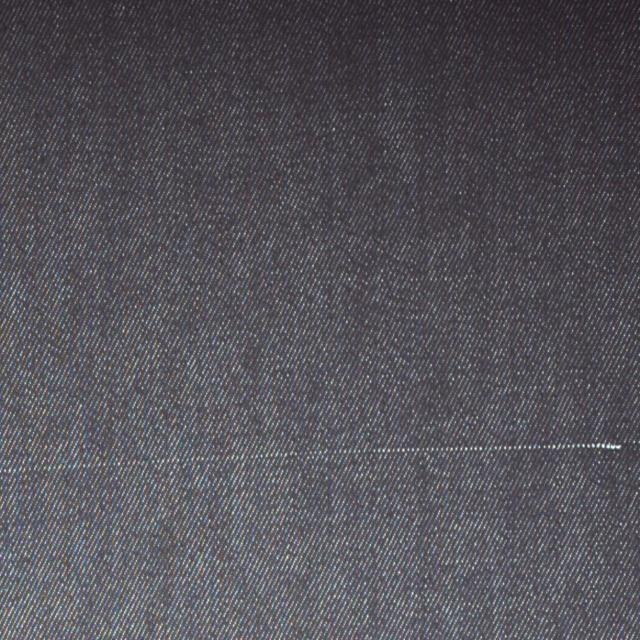Warp_Weft: (0, 431, 624, 476)
